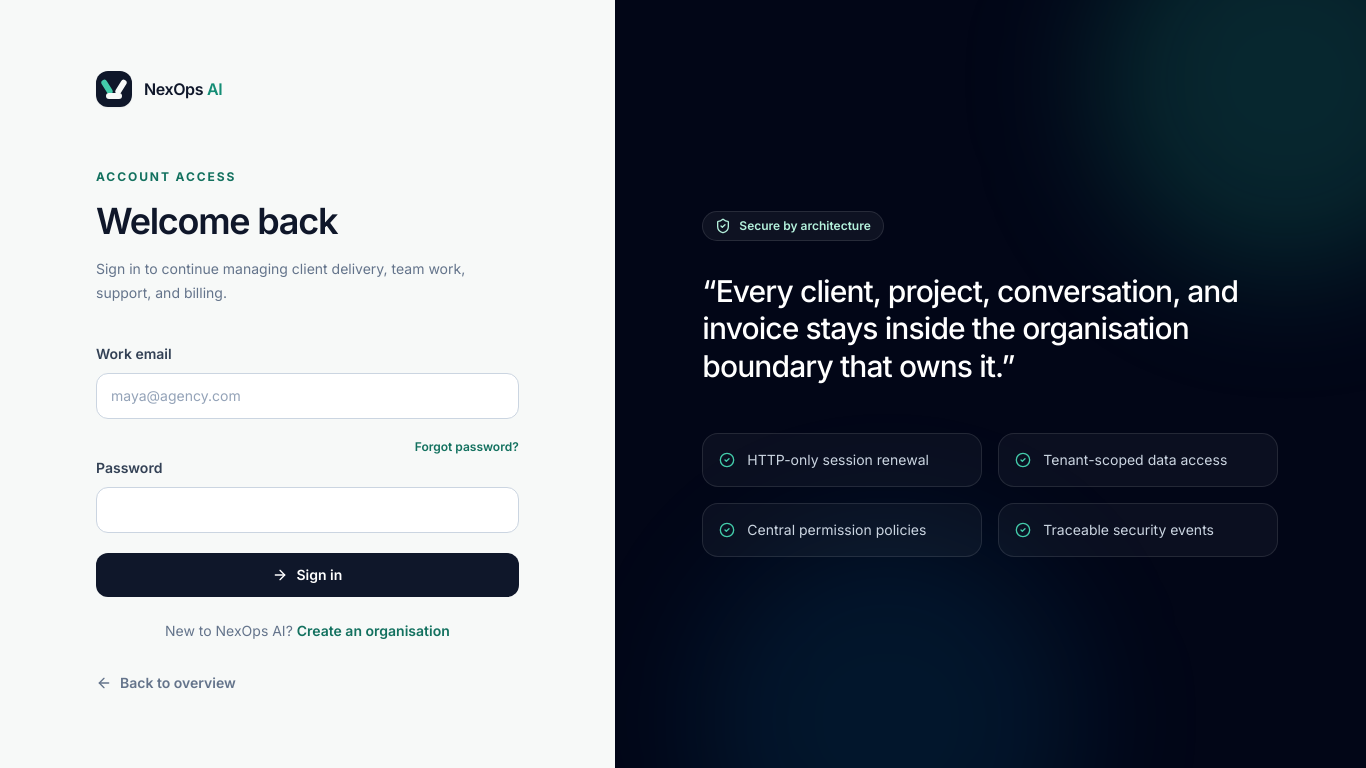
Test: LoginPage › shows validation errors without sending invalid credentials
The width and height of the screenshot is (1366, 768).
Click the button "Sign in" at (307, 575), box left=96, top=553, right=519, bottom=597
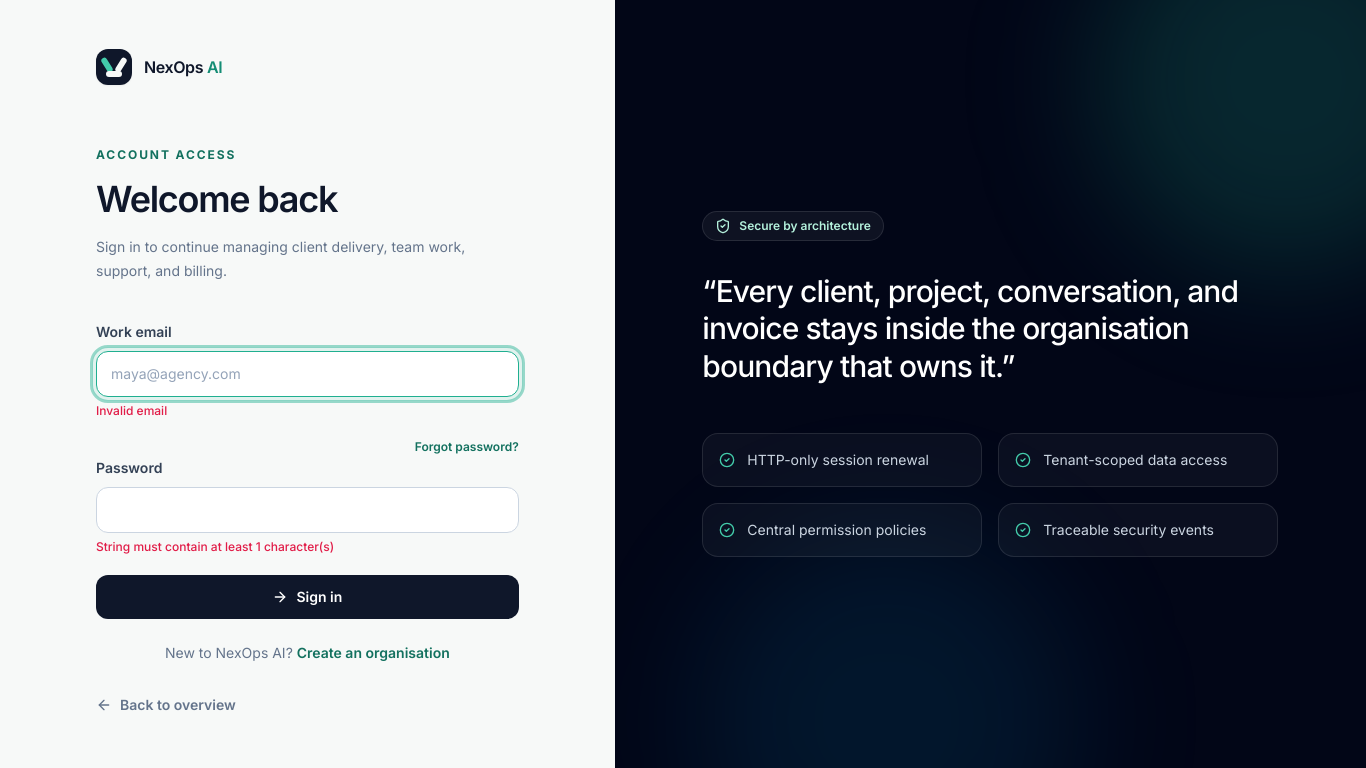
Expected: the text "Invalid email" is shown, left=96, top=403, right=167, bottom=418
